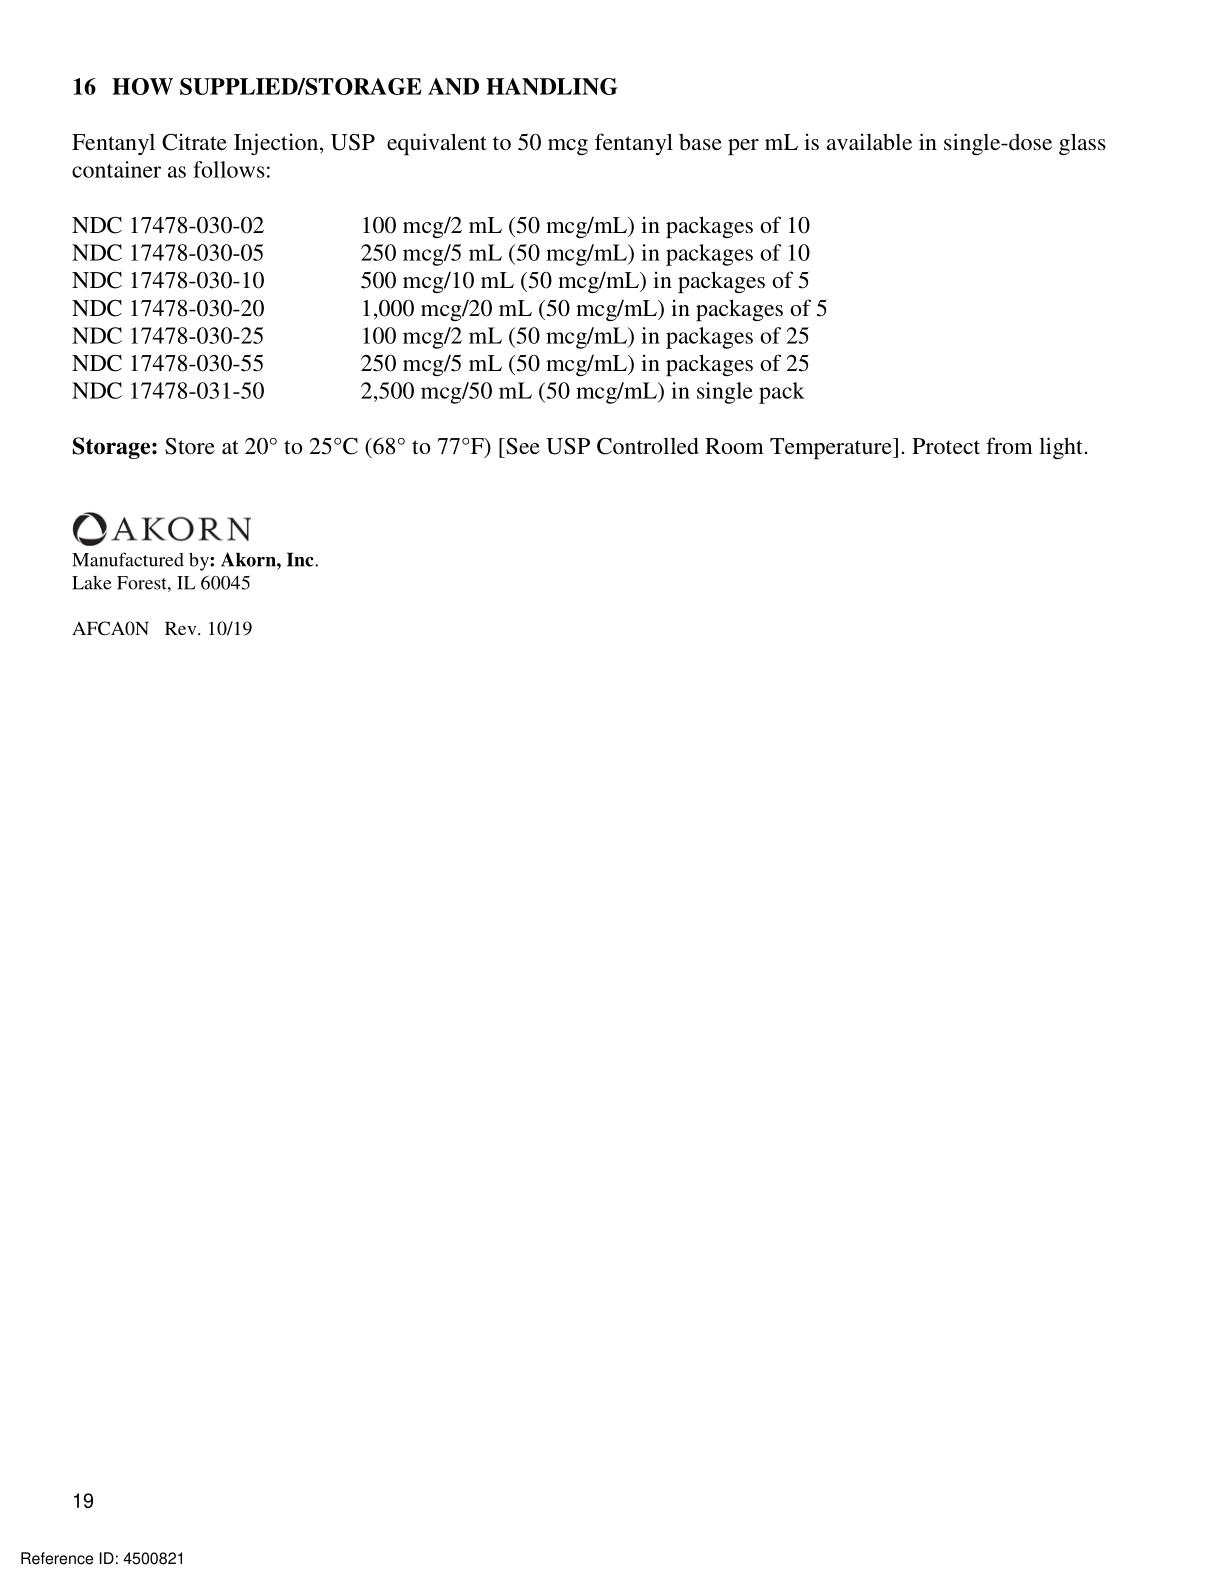nolines: (67, 211, 829, 406)
